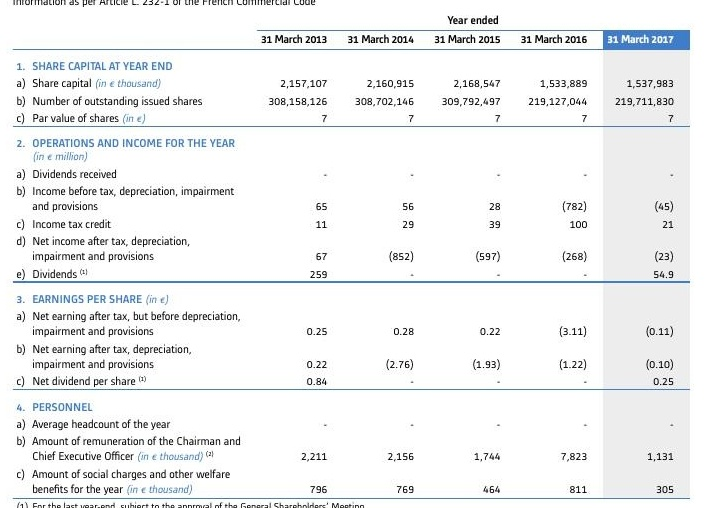table: (0, 0, 709, 508)
